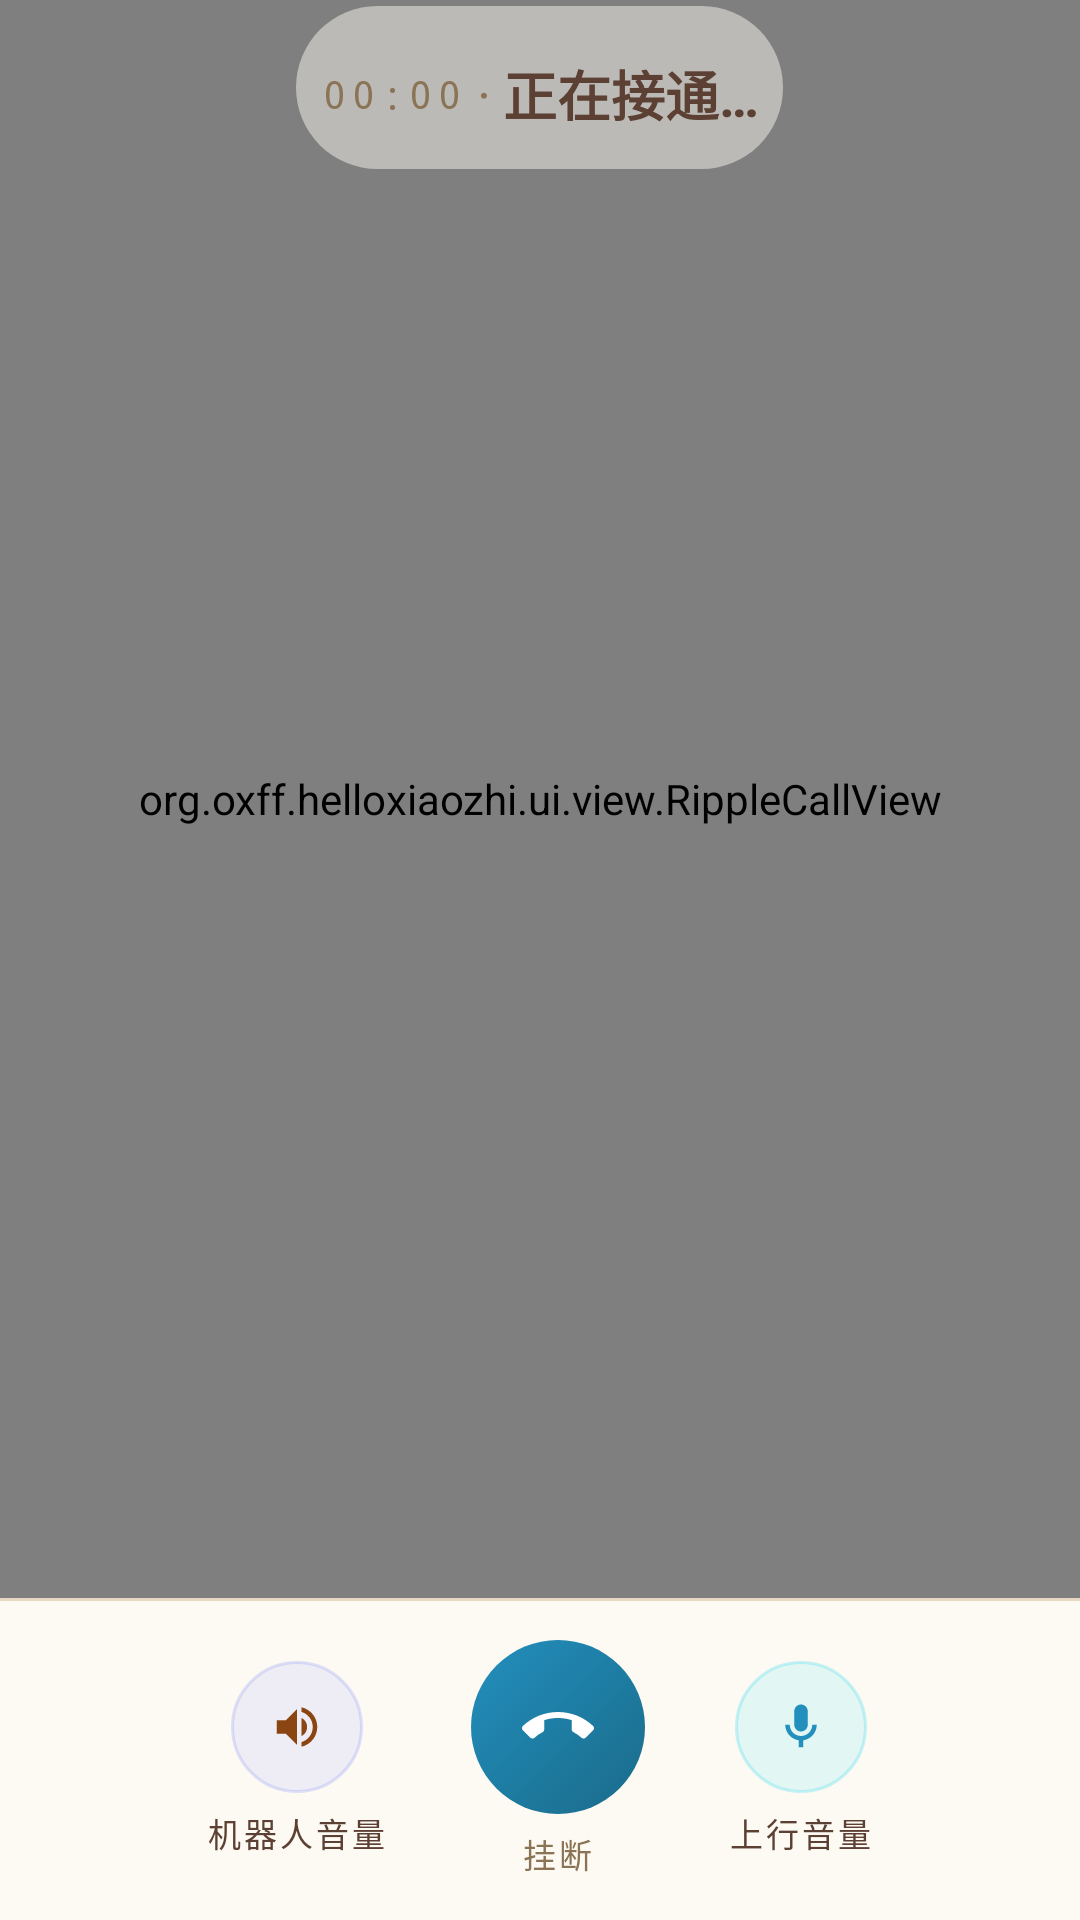

Locate icon controls on the screen. Image size 1080*1920, boxes as box(x1, y1, x2, y2).
hangup: box(522, 1712, 594, 1739)
mic: box(785, 1704, 817, 1748)
speaker: box(276, 1707, 318, 1747)
